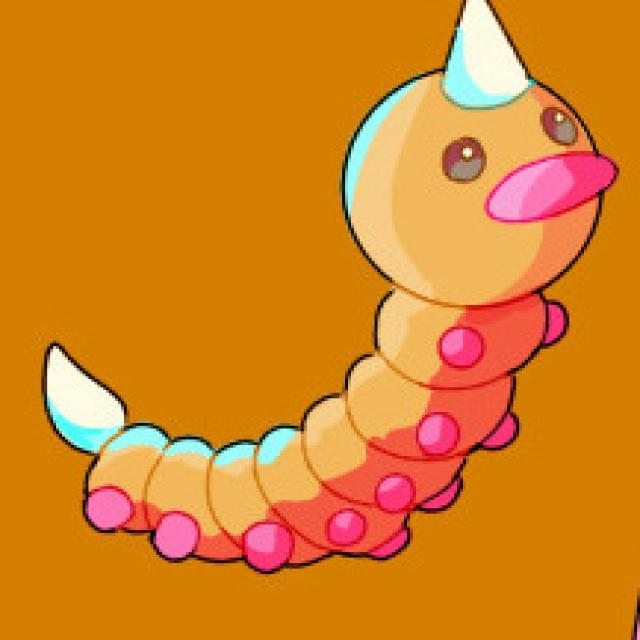Weedle: (44, 0, 608, 566)
